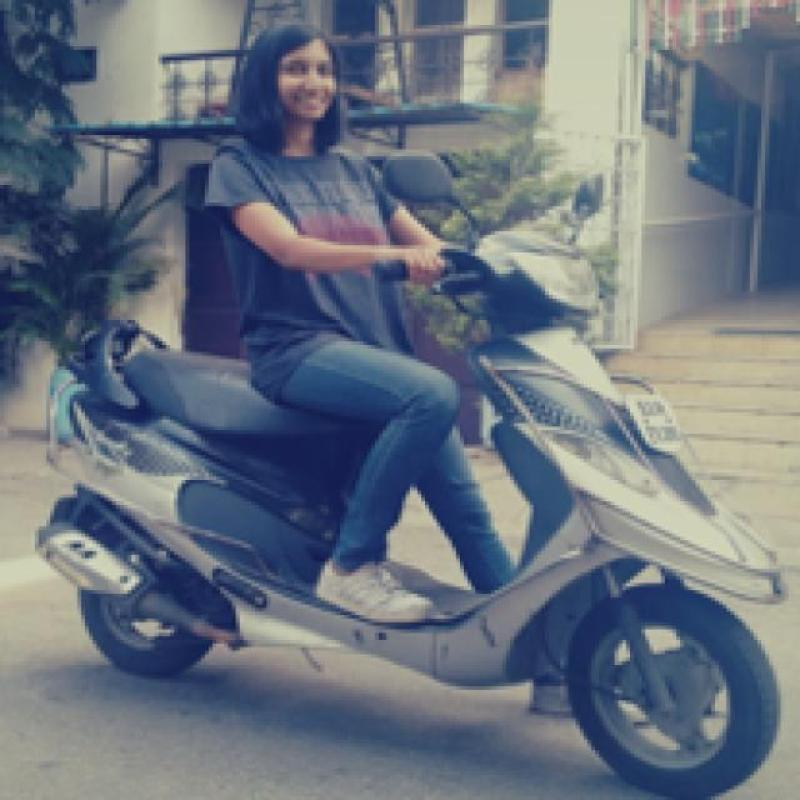nohelmet: (238, 6, 374, 162)
